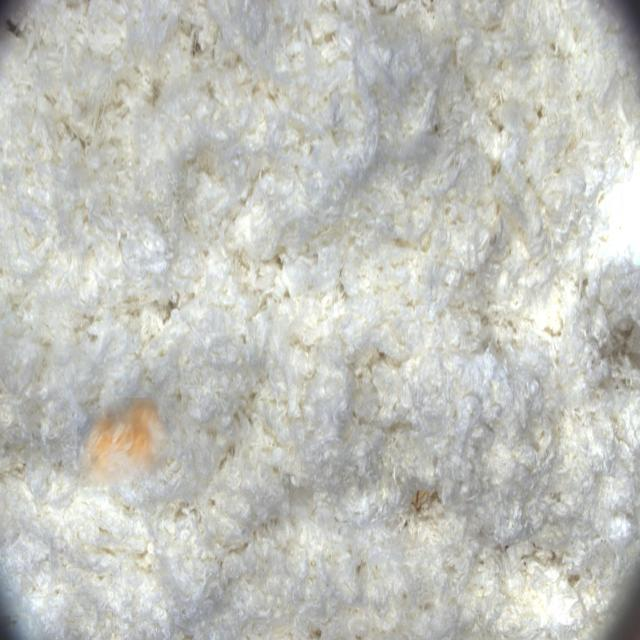dust: (77, 398, 167, 487)
